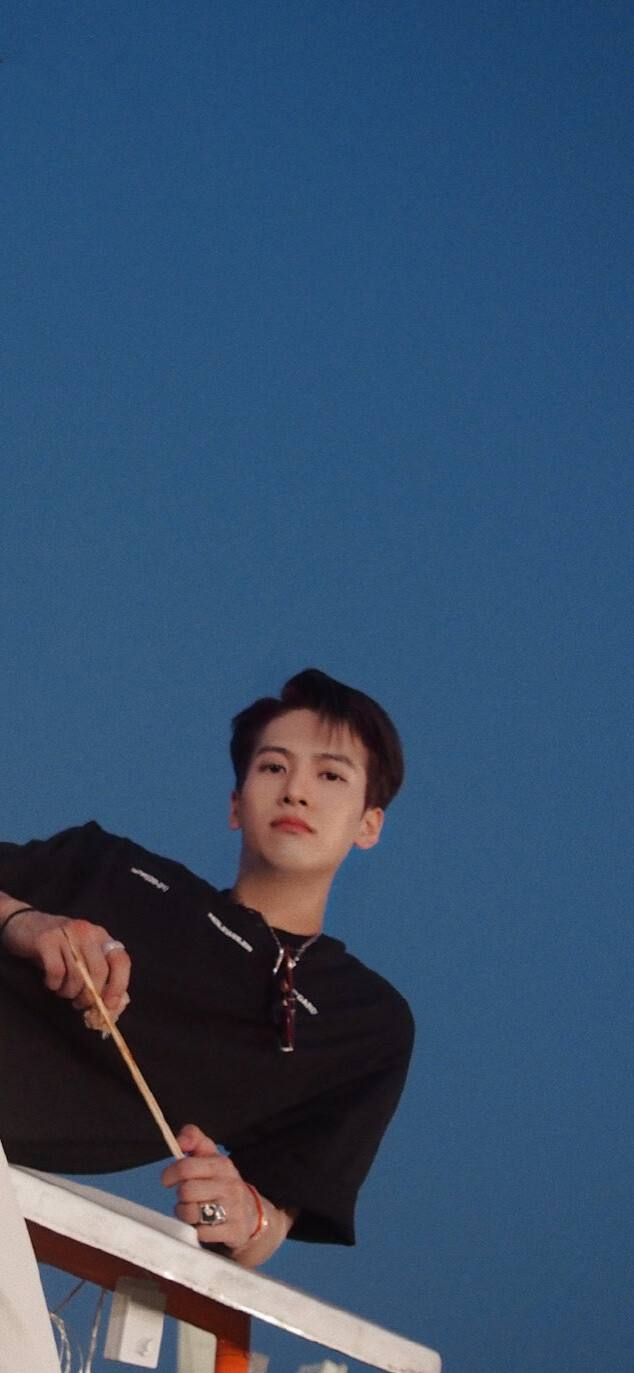person: (37, 642, 570, 1292)
